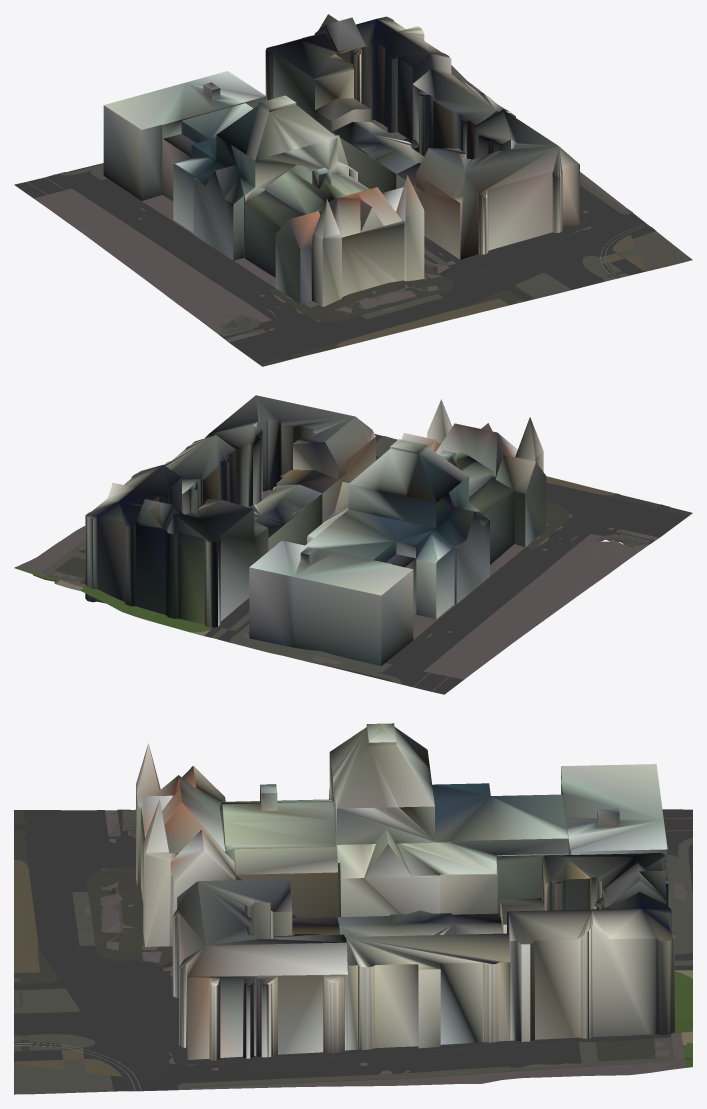
The picture shows the model from 3 angles, top to bottom: view 1: azimuth 30°, elevation 25°; view 2: azimuth 150°, elevation 25°; view 3: azimuth 270°, elevation 25°; orthographic projection. The views are drawn at different scales.
Visible parts, largest first — view 1: c_m04_m03; view 2: c_m04_m03; view 3: c_m04_m03.
Boxes of the visible parts, x1,y1,x2,y2 form: c_m04_m03: (14,14,692,366); c_m04_m03: (14,395,692,694); c_m04_m03: (14,723,692,1094).
Size of the model in its own units: 128 by 39.08 by 128.
